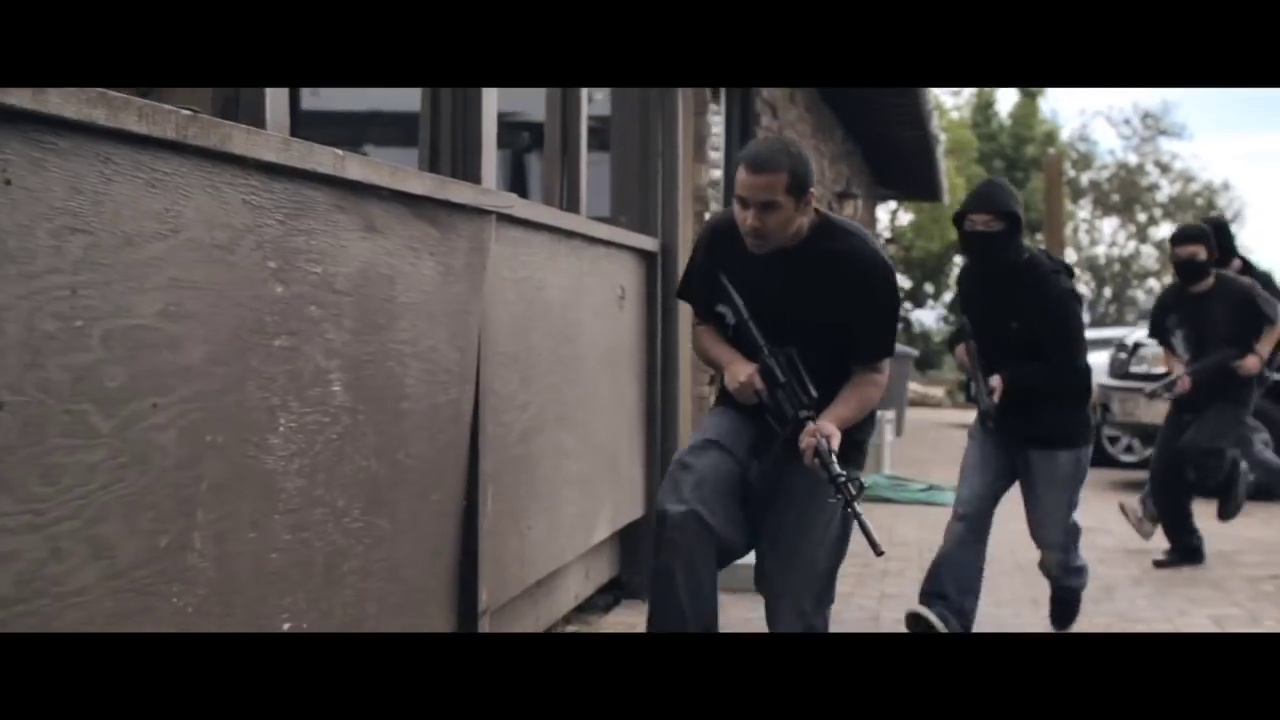gun: (705, 267, 892, 565), (948, 309, 1005, 434), (1144, 342, 1256, 404)
p_w_gun: (645, 136, 901, 636), (900, 173, 1096, 633), (1139, 223, 1280, 568)
